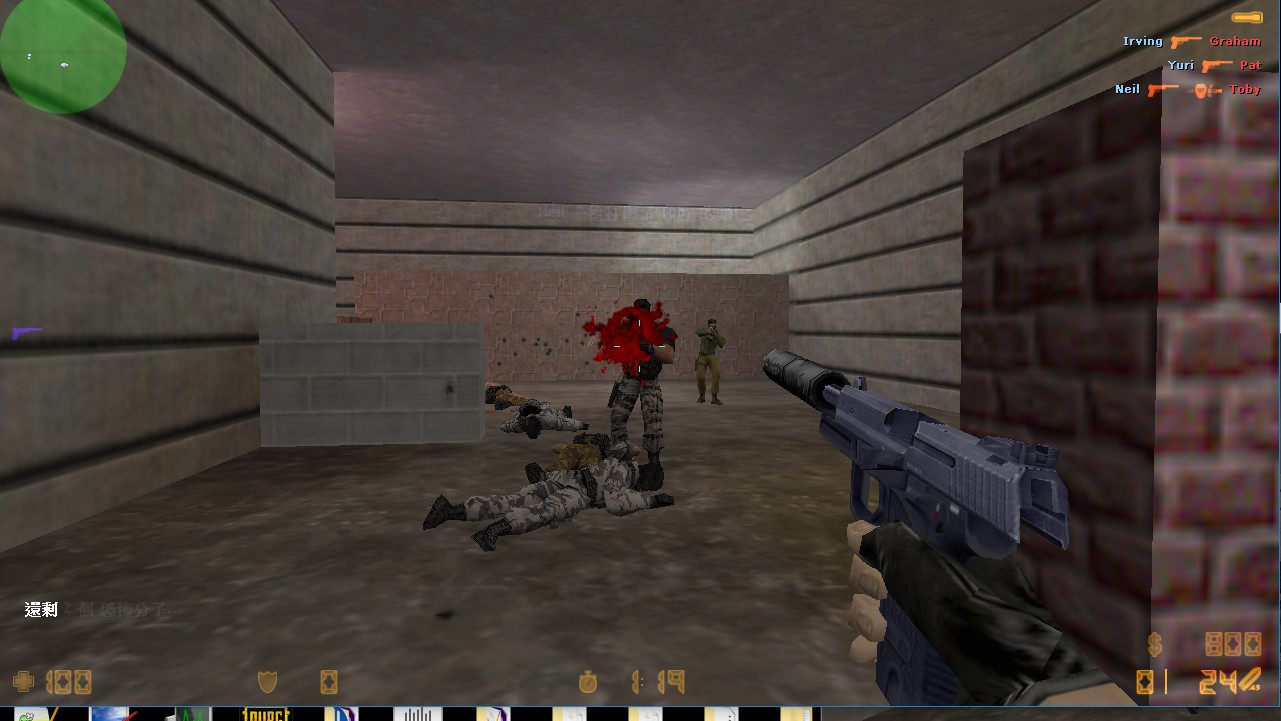person: (693, 318, 735, 407)
